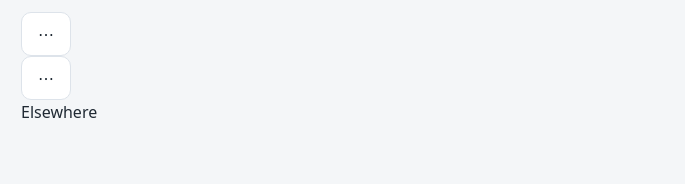
it: RowMenu › calls onEdit and closes
This screenshot has width=685, height=184.
Click the button named "Actions for A" at (46, 34), box [21,12,71,56]
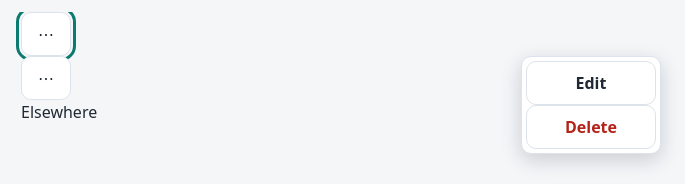
Click the menu item with aria-label "Edit A" at (591, 83), box [526,61,656,105]
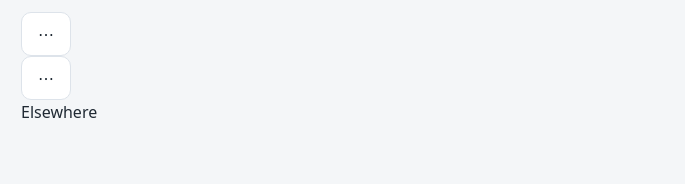
Check: the menu is gone
